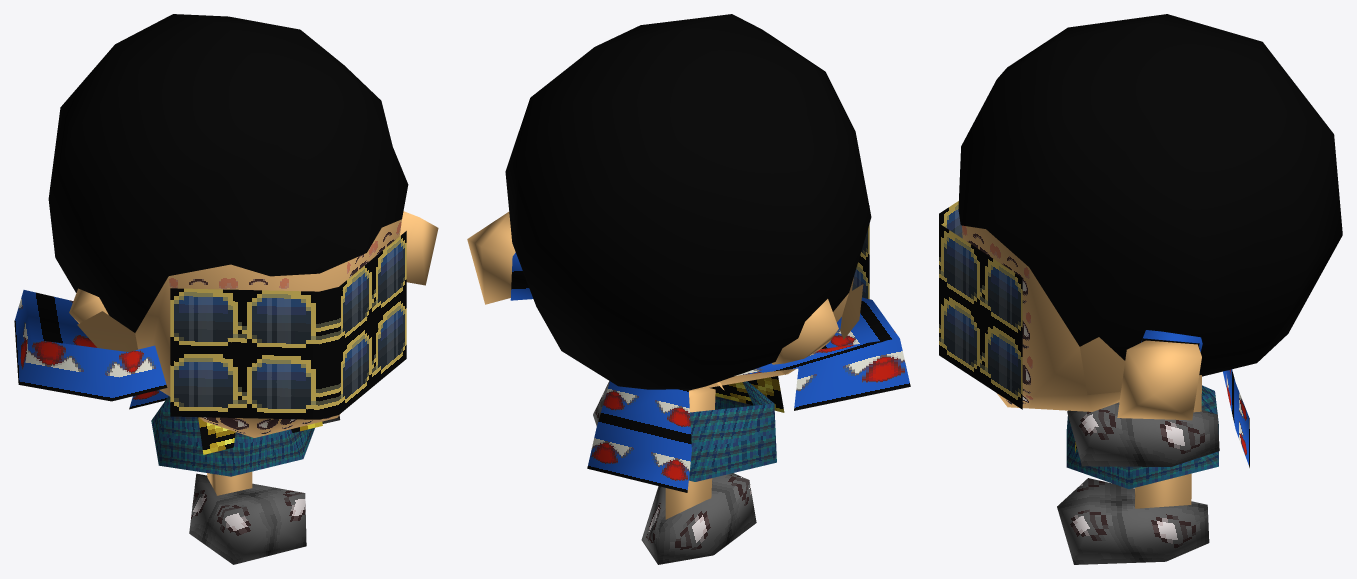
3 renders of one model, left to right at view 1: azimuth 30°, elevation 25°; view 2: azimuth 150°, elevation 25°; view 3: azimuth 270°, elevation 25°, orthographic. The views are drawn at different scales.
Visible parts, largest first — view 1: pmd49_00_04; view 2: pmd49_00_04; view 3: pmd49_00_04.
Part boxes in pixels (box(x1,y1,x2,y2)): pmd49_00_04: box(14, 14, 438, 564); pmd49_00_04: box(467, 14, 910, 564); pmd49_00_04: box(939, 14, 1342, 564).
Size of the model in its own units: 1.18 by 1.33 by 0.9375.
Materials: 8 (8 with a texture image).
